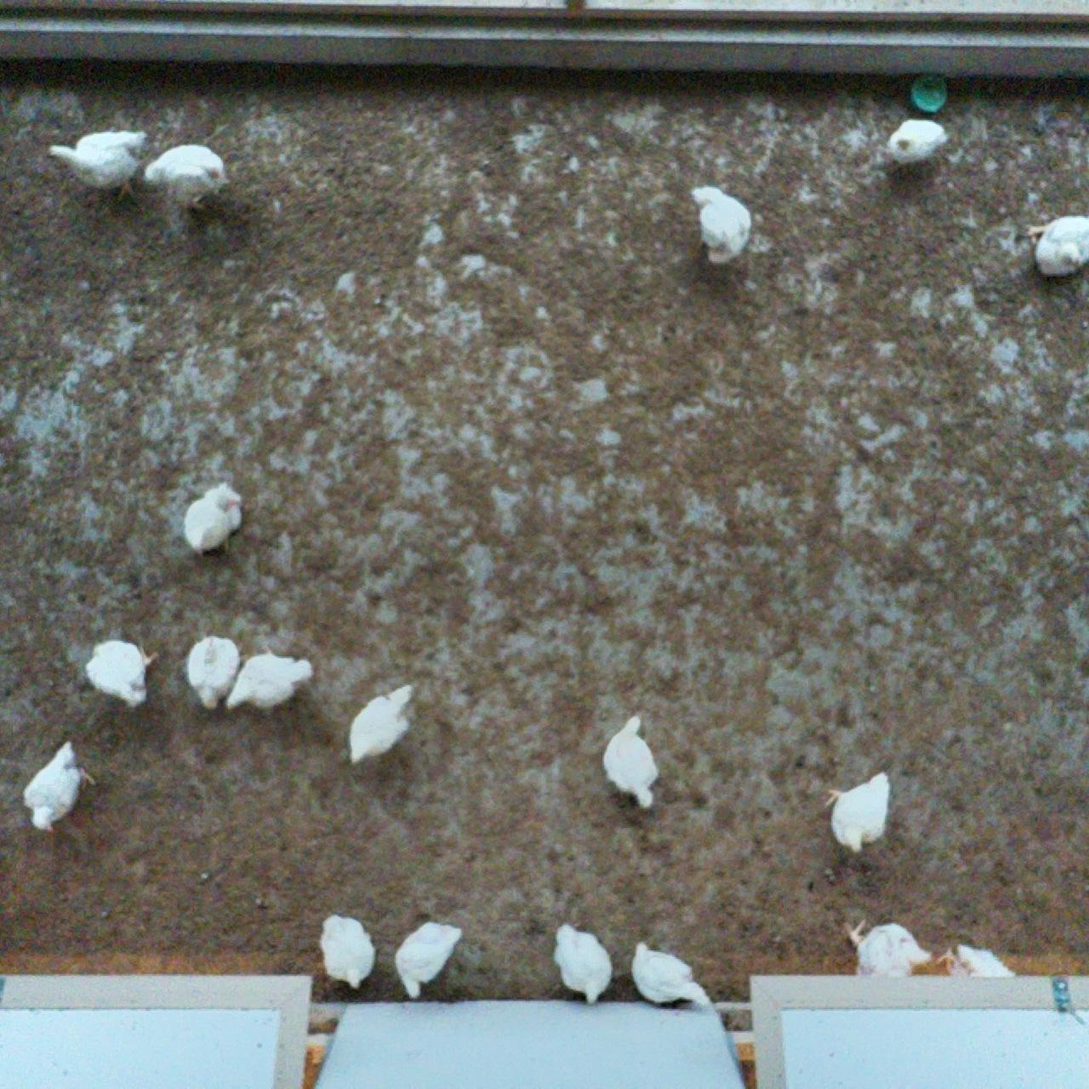chicken: (44, 127, 151, 208), (17, 737, 101, 838), (821, 767, 899, 861), (224, 641, 316, 715), (140, 140, 232, 214), (391, 916, 468, 1002), (347, 682, 422, 770), (599, 711, 664, 810), (688, 178, 757, 270), (839, 915, 933, 980), (549, 921, 618, 1007), (83, 636, 162, 710), (628, 938, 711, 1008), (179, 478, 249, 560), (181, 632, 244, 712), (315, 912, 377, 993), (1023, 209, 1089, 282), (880, 114, 949, 169), (933, 937, 1017, 981)
